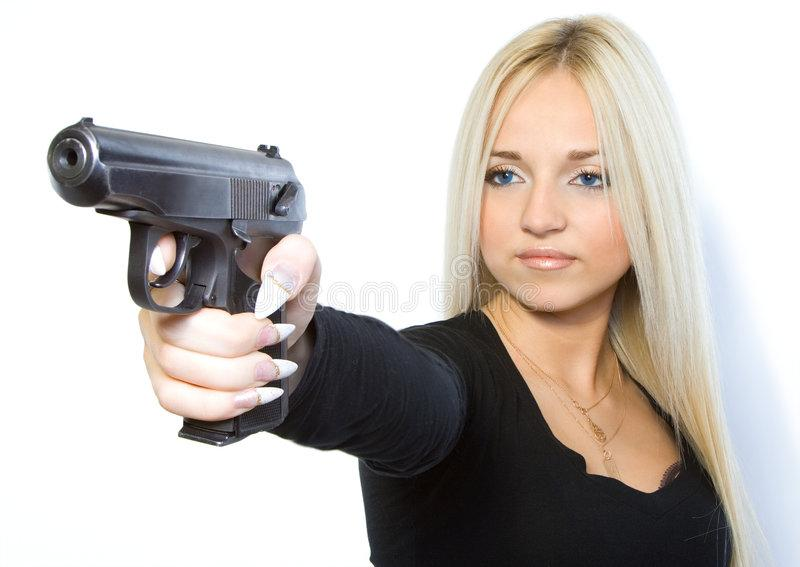criminal: (44, 13, 768, 567)
weapon: (45, 111, 309, 451)
